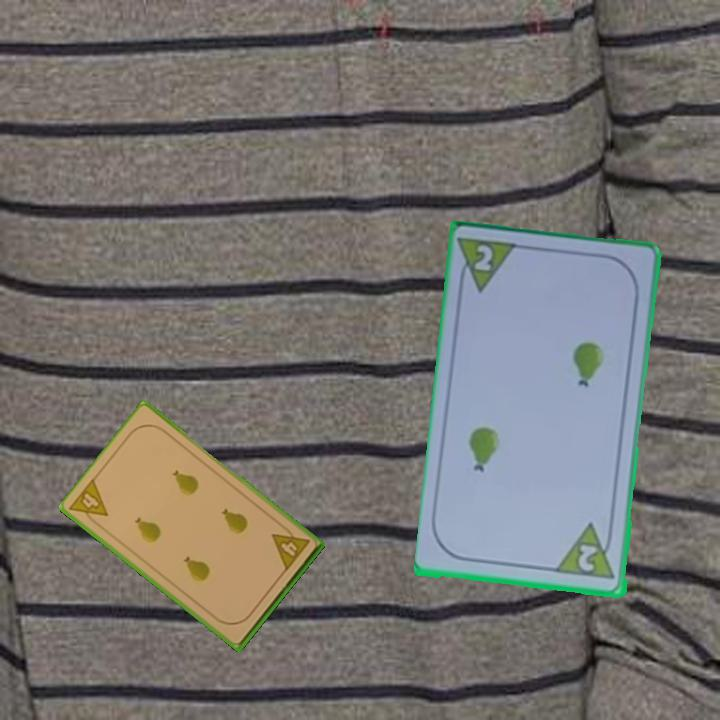2p: (575, 541, 600, 575), (471, 241, 496, 275)
4p: (66, 475, 111, 531), (268, 521, 312, 574)
